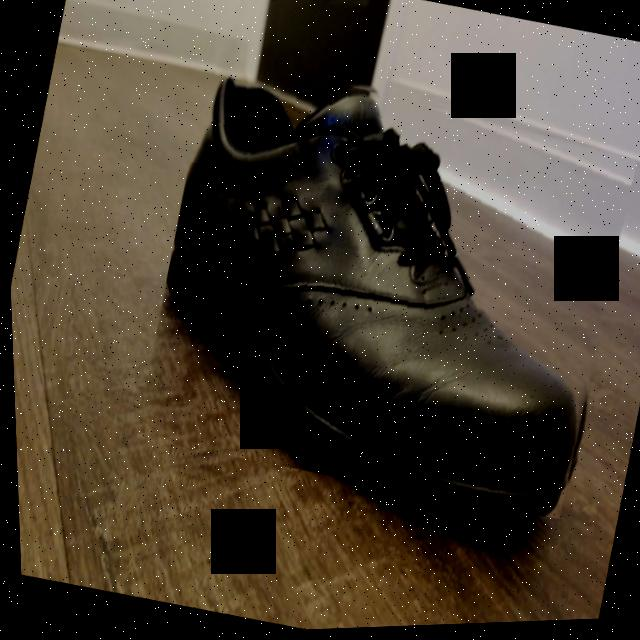shoe: (121, 40, 640, 538)
